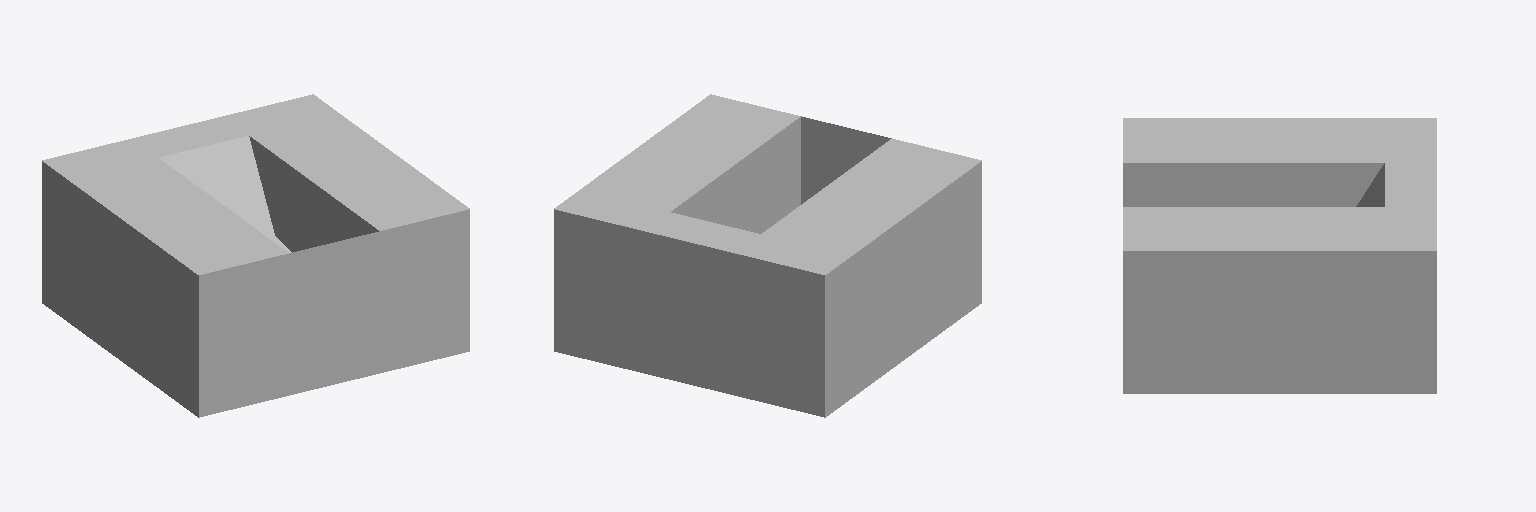
File: entrance.obj
3 views of the same model, side by side, from view 1: azimuth 30°, elevation 25°; view 2: azimuth 150°, elevation 25°; view 3: azimuth 270°, elevation 25° (orthographic).
Visible parts, largest first — view 1: Entrance; view 2: Entrance; view 3: Entrance.
Boxes of the visible parts, box(x1,y1,x2,y2) form: Entrance: box(42, 94, 469, 417); Entrance: box(554, 94, 981, 417); Entrance: box(1123, 118, 1436, 393).
Size of the model in its own units: 2 by 1 by 2.